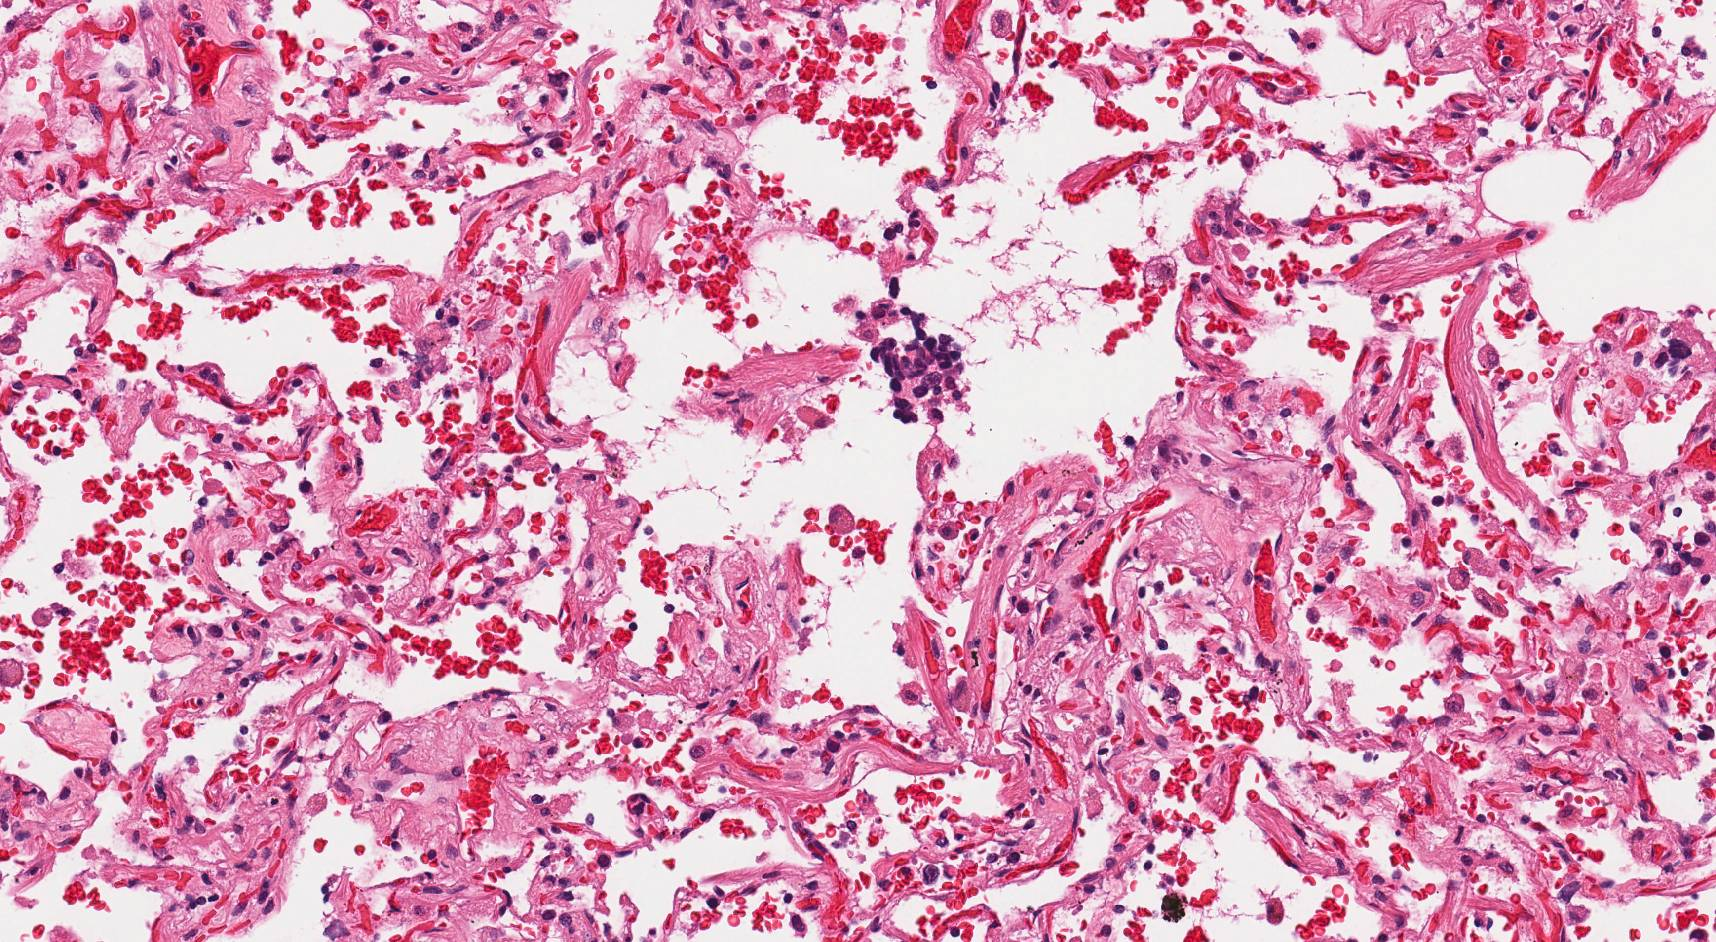stas: (868, 334, 969, 428)
